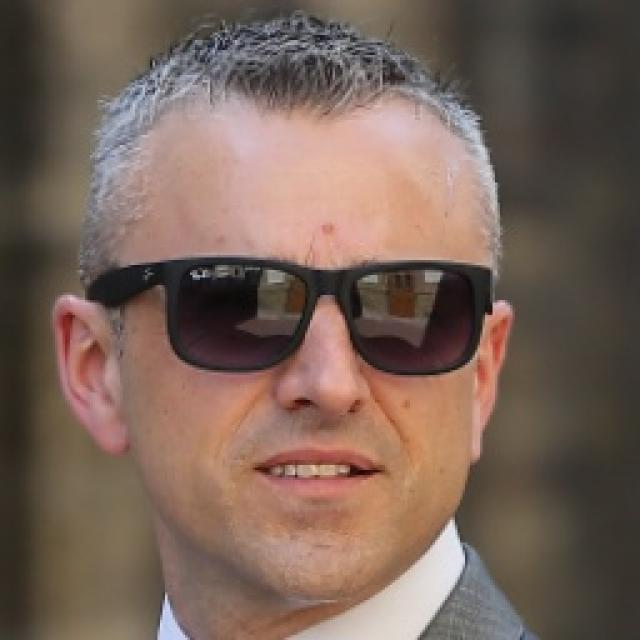glasses: (93, 237, 485, 391)
